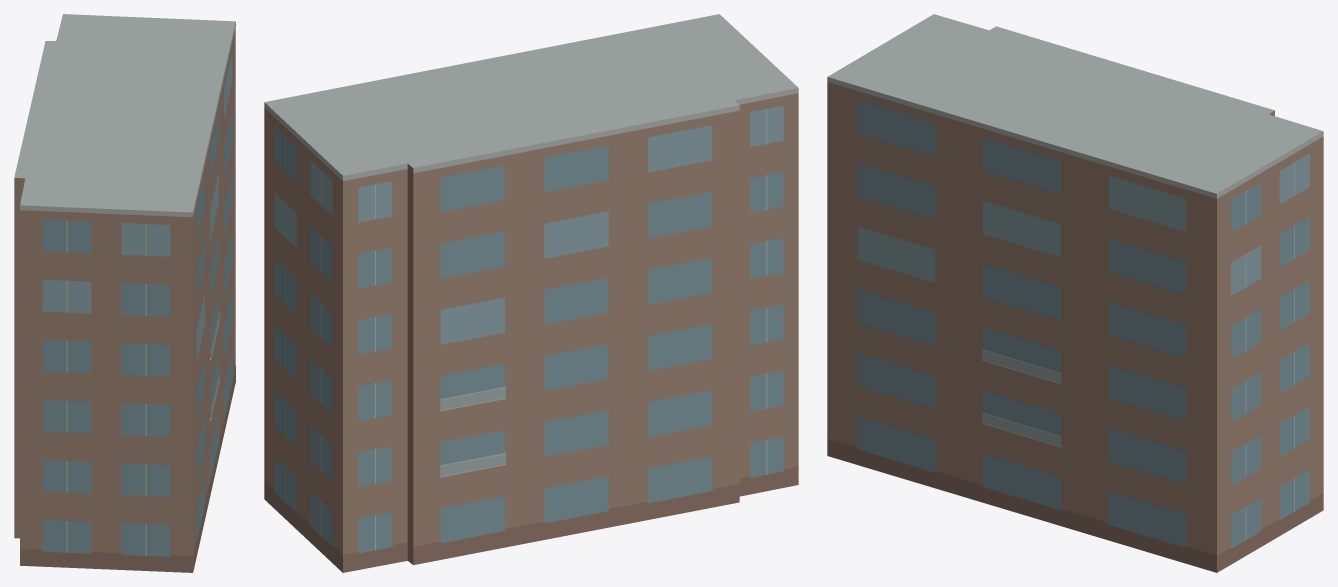
File: survey-upis-32900876.glb
The picture shows the model from 3 angles, left to right: view 1: azimuth 30°, elevation 25°; view 2: azimuth 150°, elevation 25°; view 3: azimuth 270°, elevation 25°; orthographic projection. The views are drawn at different scales.
Parts seen in each view (by area): view 1: survey-upis-32900876.tmp; view 2: survey-upis-32900876.tmp; view 3: survey-upis-32900876.tmp.
Boxes of the visible parts, box(x1,y1,x2,y2) form: survey-upis-32900876.tmp: box(14, 14, 235, 572); survey-upis-32900876.tmp: box(264, 14, 798, 572); survey-upis-32900876.tmp: box(827, 14, 1323, 572).
Bounding box in the file's own units: 18.63 × 18.3 × 21.73.
